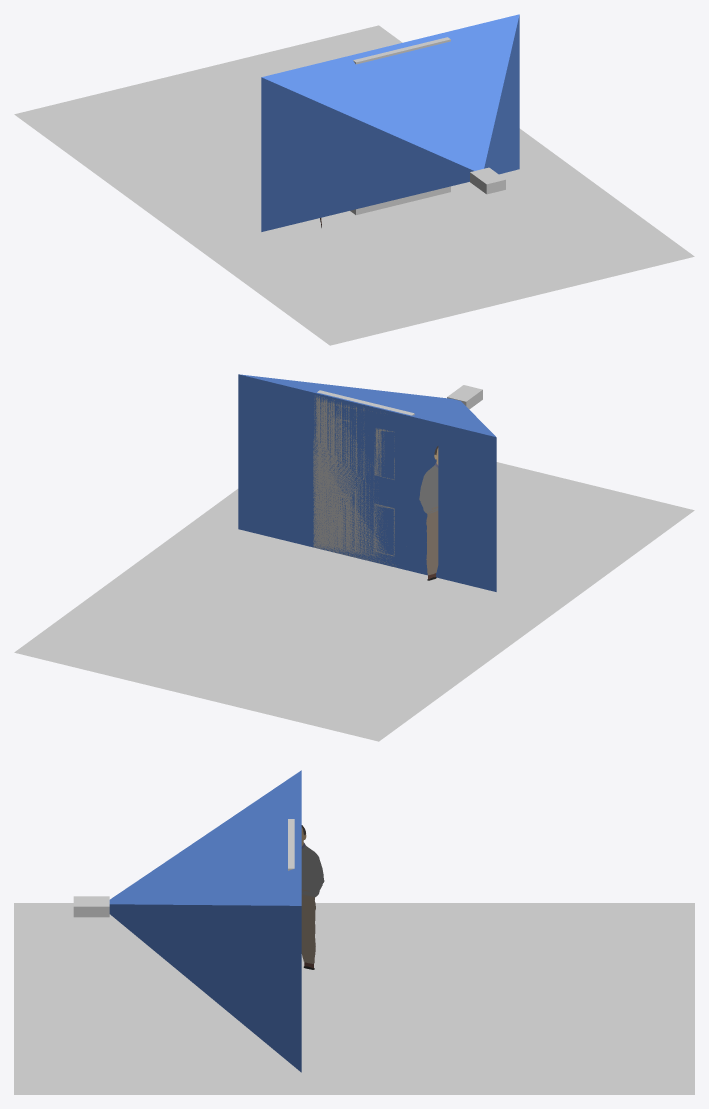
The model's file is SET_19_PuertaMagica.obj.
The picture shows the model from 3 angles, top to bottom: view 1: azimuth 30°, elevation 25°; view 2: azimuth 150°, elevation 25°; view 3: azimuth 270°, elevation 25°; orthographic projection. The views are drawn at different scales.
Parts seen in each view (by area): view 1: Mesh2 Component_9_1 Model, Mesh3 Component_67_1 Component_66_1 Component_65_1 Model, Mesh9 Component_116_1 Component_118_1 Model, Mesh4 Component_6_1 Component_66_1 Component_65_1 Model; view 2: Mesh2 Component_9_1 Model, Mesh3 Component_67_1 Component_66_1 Component_65_1 Model, Mesh9 Component_116_1 Component_118_1 Model, Mesh1 Derrick1 Model, Mesh5 Component_117_1 Component_118_1 Model; view 3: Mesh2 Component_9_1 Model, Mesh3 Component_67_1 Component_66_1 Component_65_1 Model, Mesh1 Derrick1 Model, Mesh4 Component_6_1 Component_66_1 Component_65_1 Model.
Boxes of the visible parts, x1=… form: Mesh2 Component_9_1 Model: x1=14, y1=25, x2=694, y2=345; Mesh3 Component_67_1 Component_66_1 Component_65_1 Model: x1=261, y1=14, x2=519, y2=231; Mesh9 Component_116_1 Component_118_1 Model: x1=350, y1=37, x2=450, y2=214; Mesh4 Component_6_1 Component_66_1 Component_65_1 Model: x1=470, y1=167, x2=505, y2=194; Mesh2 Component_9_1 Model: x1=14, y1=462, x2=694, y2=741; Mesh3 Component_67_1 Component_66_1 Component_65_1 Model: x1=238, y1=374, x2=496, y2=591; Mesh9 Component_116_1 Component_118_1 Model: x1=313, y1=390, x2=414, y2=567; Mesh1 Derrick1 Model: x1=419, y1=446, x2=438, y2=580; Mesh5 Component_117_1 Component_118_1 Model: x1=331, y1=493, x2=351, y2=545; Mesh2 Component_9_1 Model: x1=14, y1=903, x2=694, y2=1094; Mesh3 Component_67_1 Component_66_1 Component_65_1 Model: x1=109, y1=770, x2=301, y2=1072; Mesh1 Derrick1 Model: x1=301, y1=825, x2=324, y2=969; Mesh4 Component_6_1 Component_66_1 Component_65_1 Model: x1=73, y1=896, x2=109, y2=917.
Bounding box in the file's own units: 5000 × 2031 × 7500.
